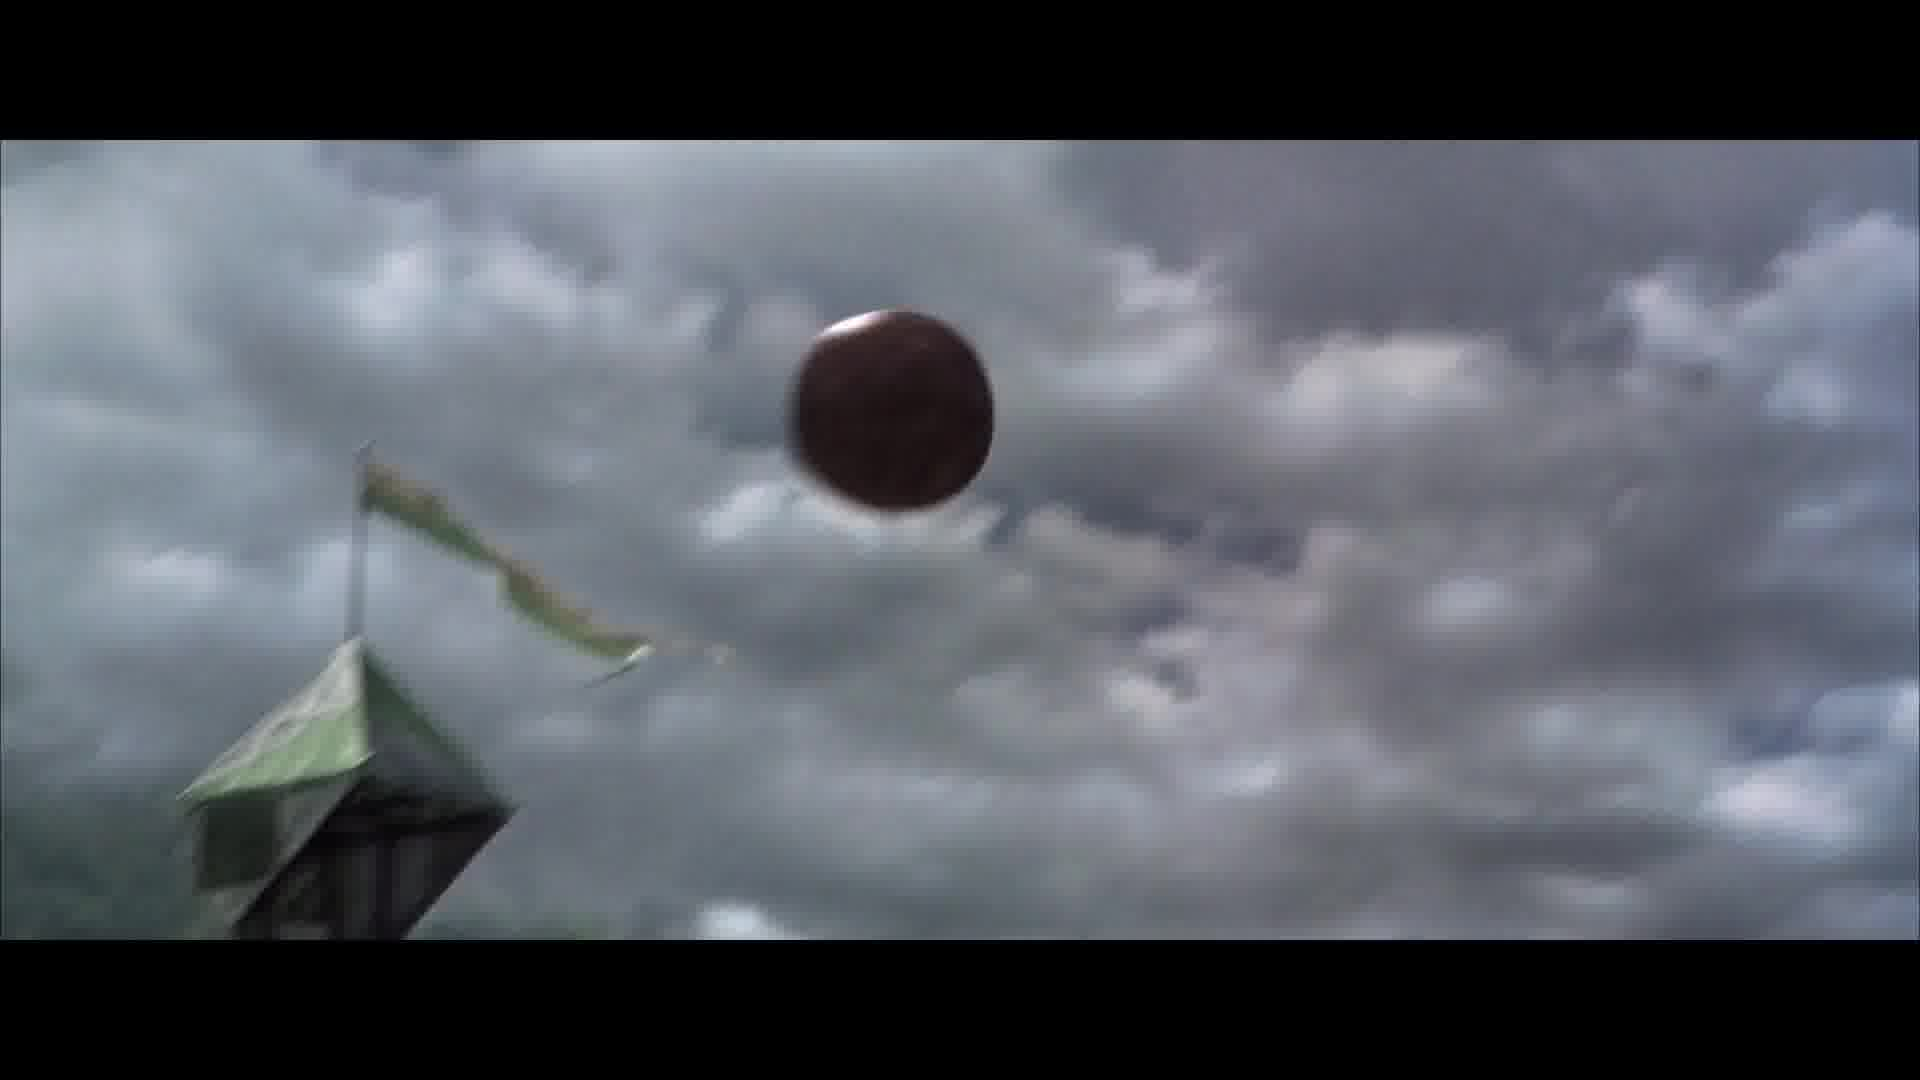bludger: (795, 309, 996, 512)
